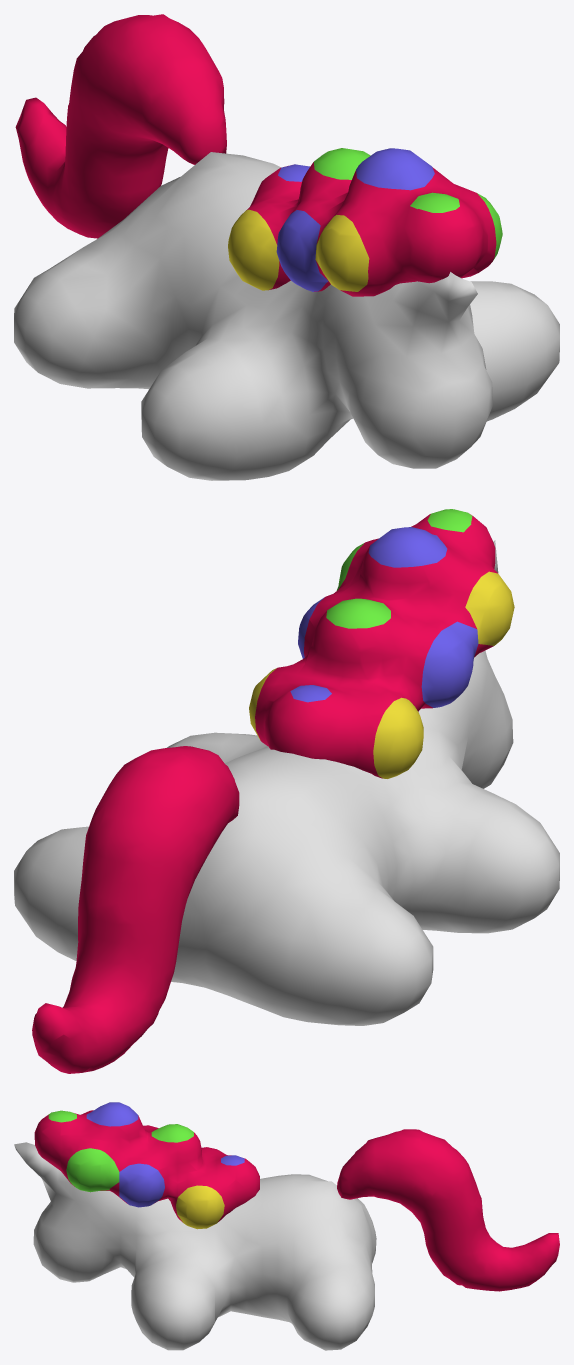
Rendered from unicornPlushieCarnival.fbx.
3 renders of one model, top to bottom at view 1: azimuth 30°, elevation 25°; view 2: azimuth 150°, elevation 25°; view 3: azimuth 270°, elevation 25°, orthographic. The views are drawn at different scales.
Visible parts, largest first — view 1: Unicorn Plushie Carnival; view 2: Unicorn Plushie Carnival; view 3: Unicorn Plushie Carnival.
Part boxes in pixels (x1=…): Unicorn Plushie Carnival: x1=14, y1=14, x2=559, y2=480; Unicorn Plushie Carnival: x1=14, y1=509, x2=559, y2=1073; Unicorn Plushie Carnival: x1=14, y1=1102, x2=559, y2=1350.
Bounding box in the file's own units: 42.76 × 81.55 × 34.68.
